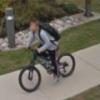bicycles: (19, 45, 55, 92), (53, 53, 76, 81)
